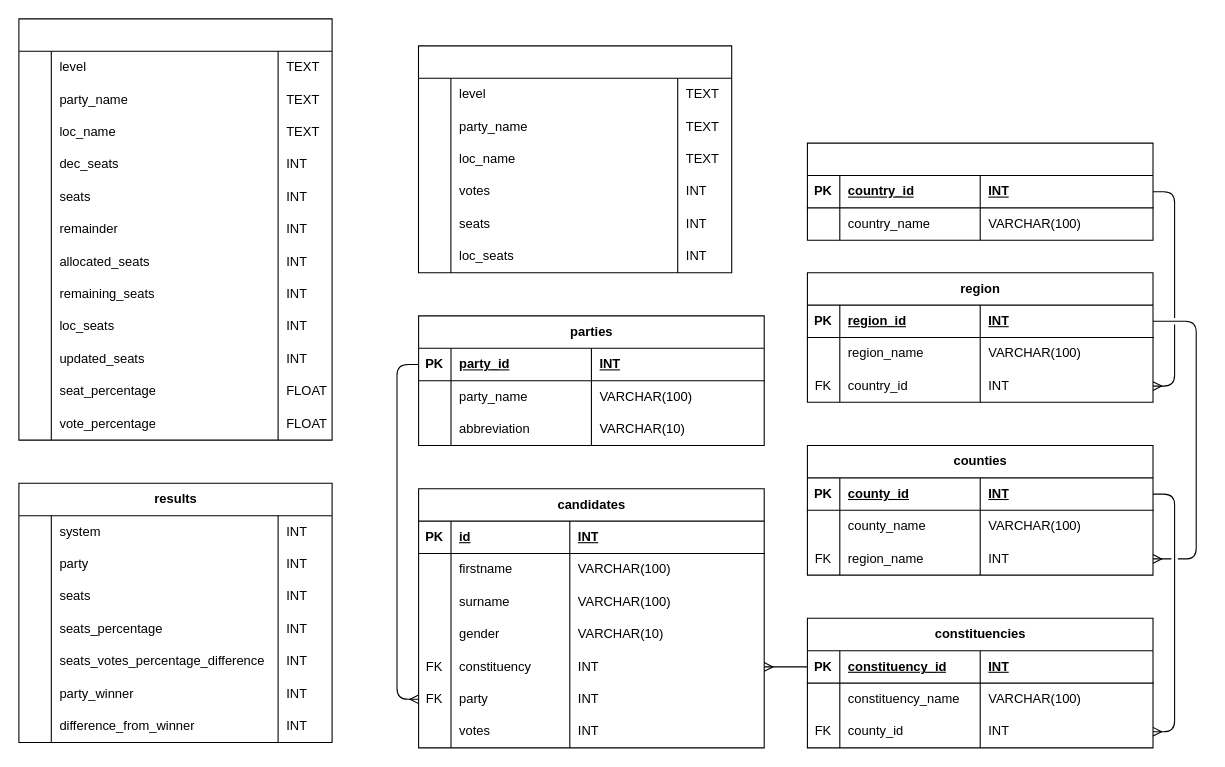
The diagram is 1225 pixels wide and 767 high, and some of its shapes have lost their labels. Here are the shapes that lost their labels. From the top down, the box of each, then its label:
(417, 45, 732, 273): dh_results
(806, 142, 1153, 240): countries
(18, 18, 332, 440): lr_results
